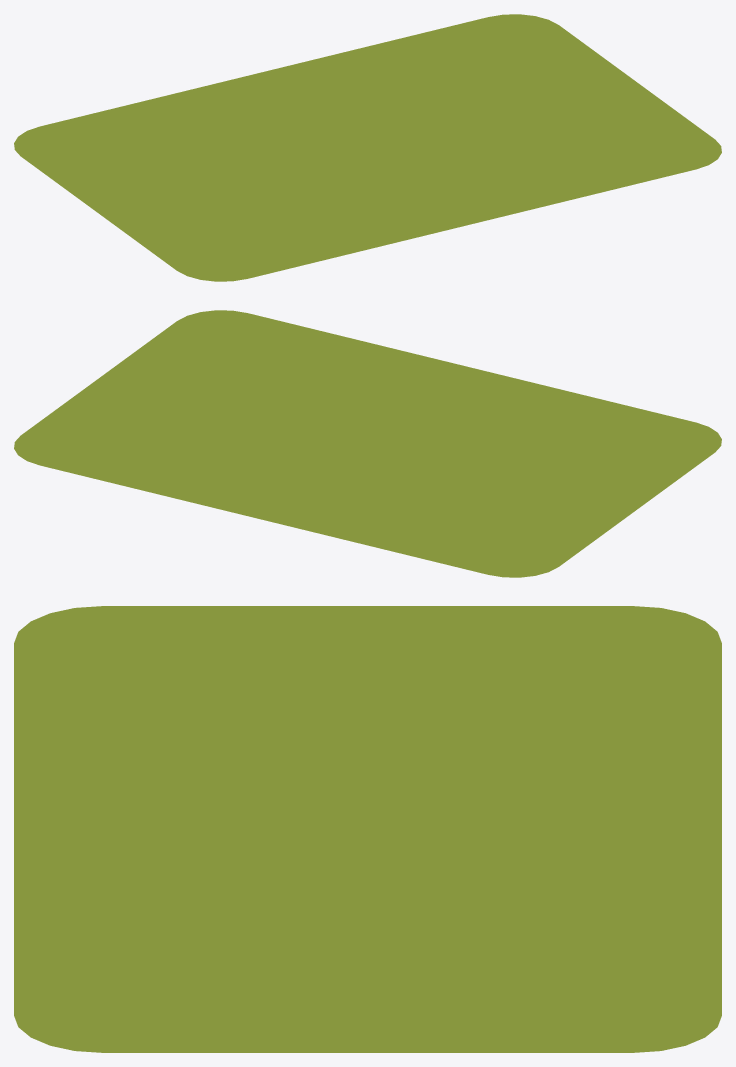
Rendered from Tarot_Card_04.fbx.
3 renders of one model, top to bottom at view 1: azimuth 30°, elevation 25°; view 2: azimuth 150°, elevation 25°; view 3: azimuth 270°, elevation 25°, orthographic. The views are drawn at different scales.
Parts seen in each view (by area): view 1: Tarot_Card_04; view 2: Tarot_Card_04; view 3: Tarot_Card_04.
Boxes of the visible parts, box(x1,y1,x2,y2) form: Tarot_Card_04: box(14, 14, 721, 281); Tarot_Card_04: box(14, 310, 721, 577); Tarot_Card_04: box(14, 606, 721, 1052).
Size of the model in its own units: 21.11 by 0 by 14.14.
